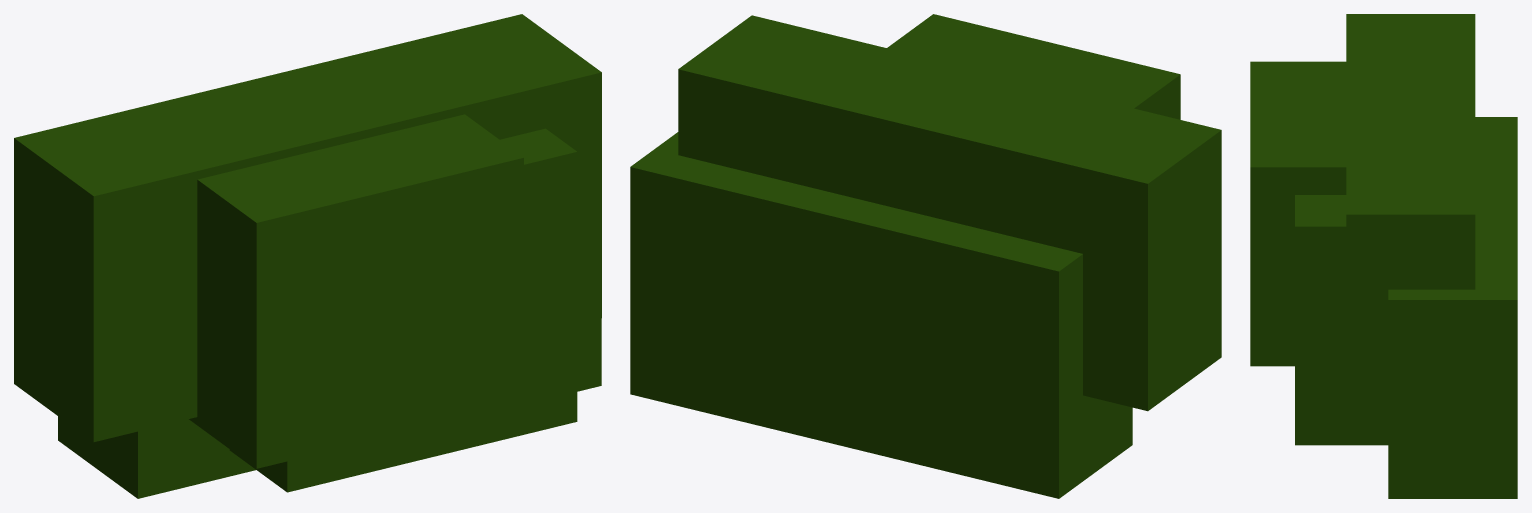
The model's file is bush_small_2.glb.
3 views of the same model, side by side, from view 1: azimuth 30°, elevation 25°; view 2: azimuth 150°, elevation 25°; view 3: azimuth 270°, elevation 25° (orthographic). The views are drawn at different scales.
Parts seen in each view (by area): view 1: bush_small_02; view 2: bush_small_02; view 3: bush_small_02.
Part boxes in pixels (x1,y1,x2,y2): bush_small_02: (14,14,601,498); bush_small_02: (630,14,1221,498); bush_small_02: (1250,14,1517,498).
Bounding box in the file's own units: 90 × 54.57 × 48.19.
